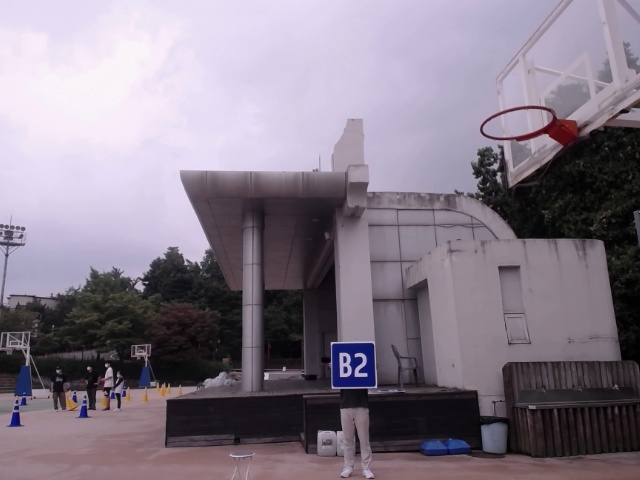delivery_b2: (331, 342, 377, 388)
